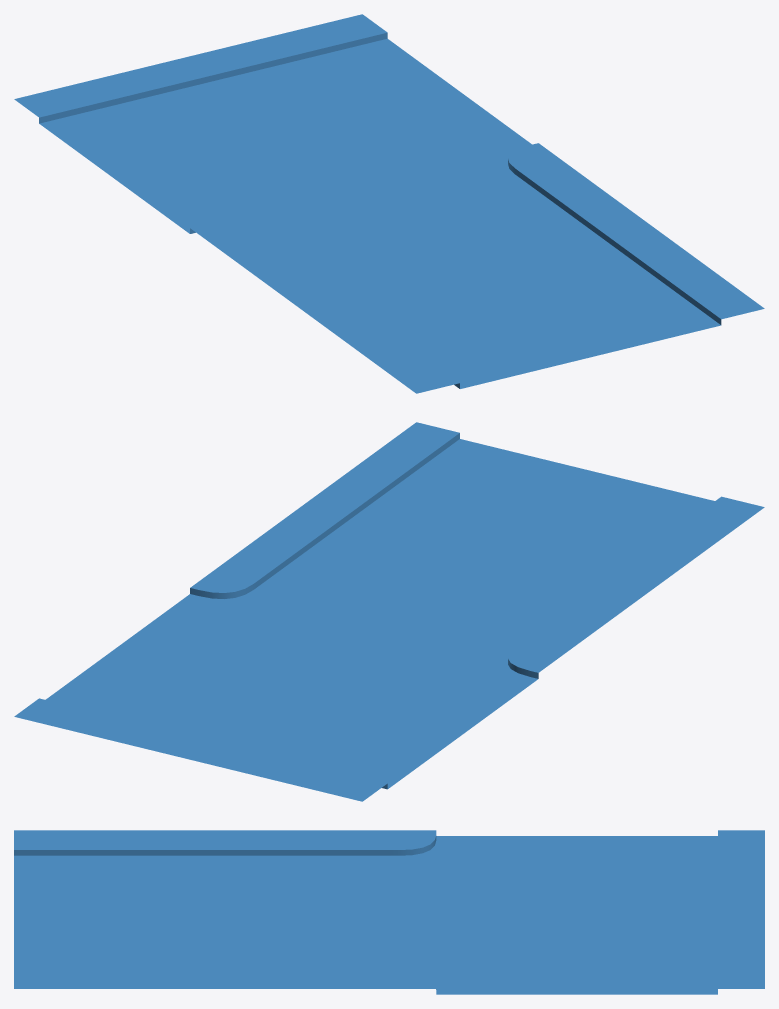
The model's file is Road_3Way_B.fbx.
The picture shows the model from 3 angles, top to bottom: view 1: azimuth 30°, elevation 25°; view 2: azimuth 150°, elevation 25°; view 3: azimuth 270°, elevation 25°; orthographic projection. The views are drawn at different scales.
Parts seen in each view (by area): view 1: Road_3Way_B; view 2: Road_3Way_B; view 3: Road_3Way_B.
Boxes of the visible parts, x1,y1,x2,y2 form: Road_3Way_B: (14,14,764,393); Road_3Way_B: (14,422,764,801); Road_3Way_B: (14,830,764,994).
Bounding box in the file's own units: 900 × 15 × 1800.
